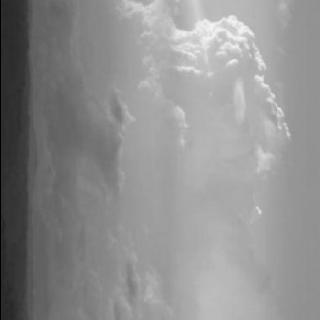Cumulonimbus: (26, 0, 320, 320)
